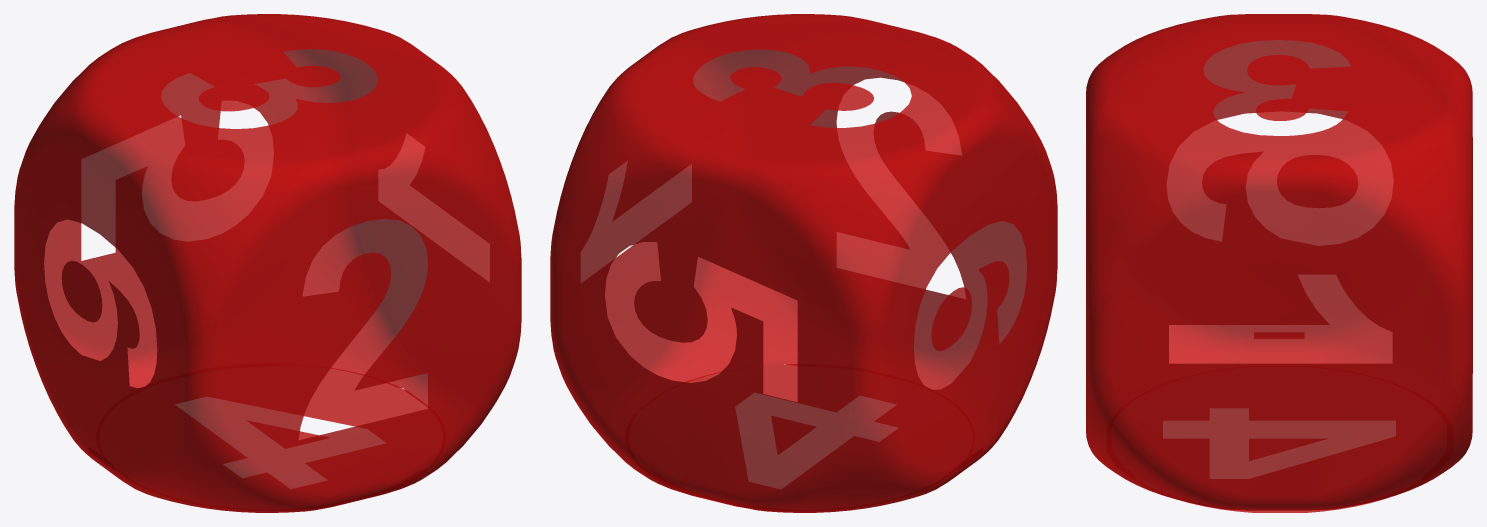
File: d6_numbers_rounded_lowpoly.fbx
3 views of the same model, side by side, from view 1: azimuth 30°, elevation 25°; view 2: azimuth 150°, elevation 25°; view 3: azimuth 270°, elevation 25° (orthographic).
Parts seen in each view (by area): view 1: 6_Sided_R0; view 2: 6_Sided_R0; view 3: 6_Sided_R0.
Boxes of the visible parts, bbox=[...] form: 6_Sided_R0: bbox=[14, 14, 521, 512]; 6_Sided_R0: bbox=[550, 14, 1057, 512]; 6_Sided_R0: bbox=[1086, 14, 1472, 512].
Bounding box in the file's own units: 8.34 × 8.34 × 8.34.
